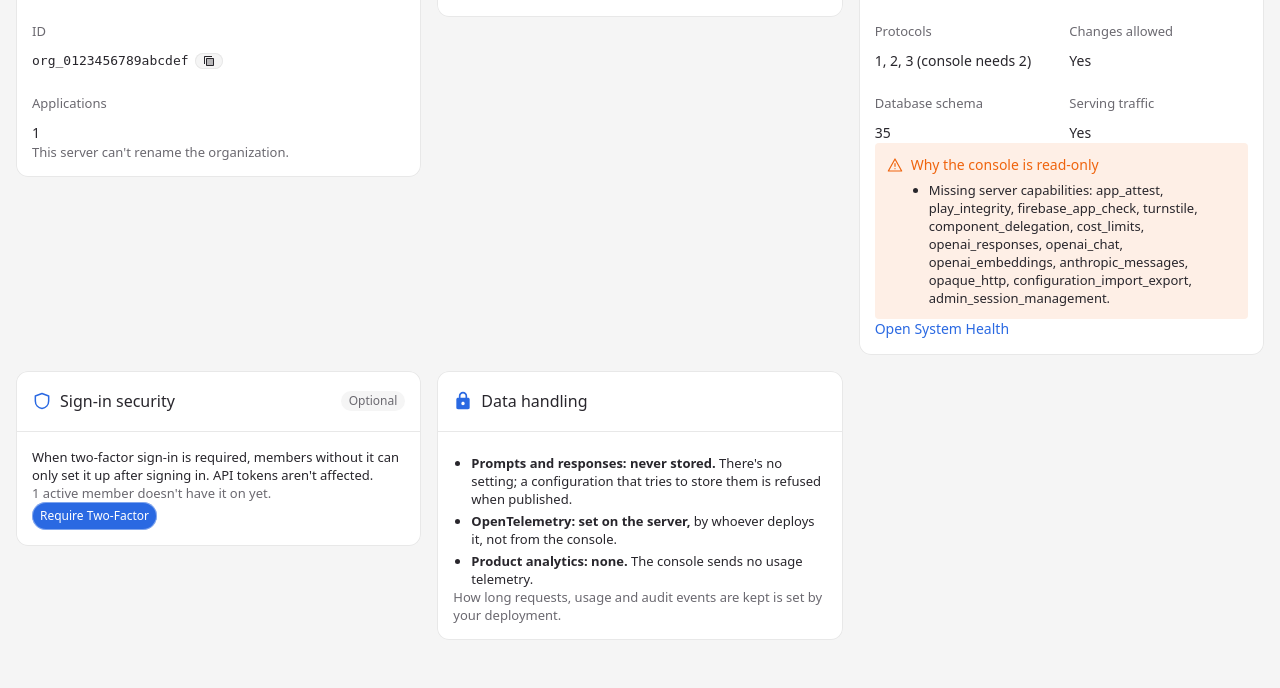
Scenario: Sign-in security › requires two-factor after showing who doesn't have it yet
The width and height of the screenshot is (1280, 688).
(page scrolled)
Check: the text "1 active member doesn't have it on yet." is shown, box 32,484 -> 271,502
Click the button "Require Two-Factor".
click(94, 516)  # box 32,502 -> 157,530
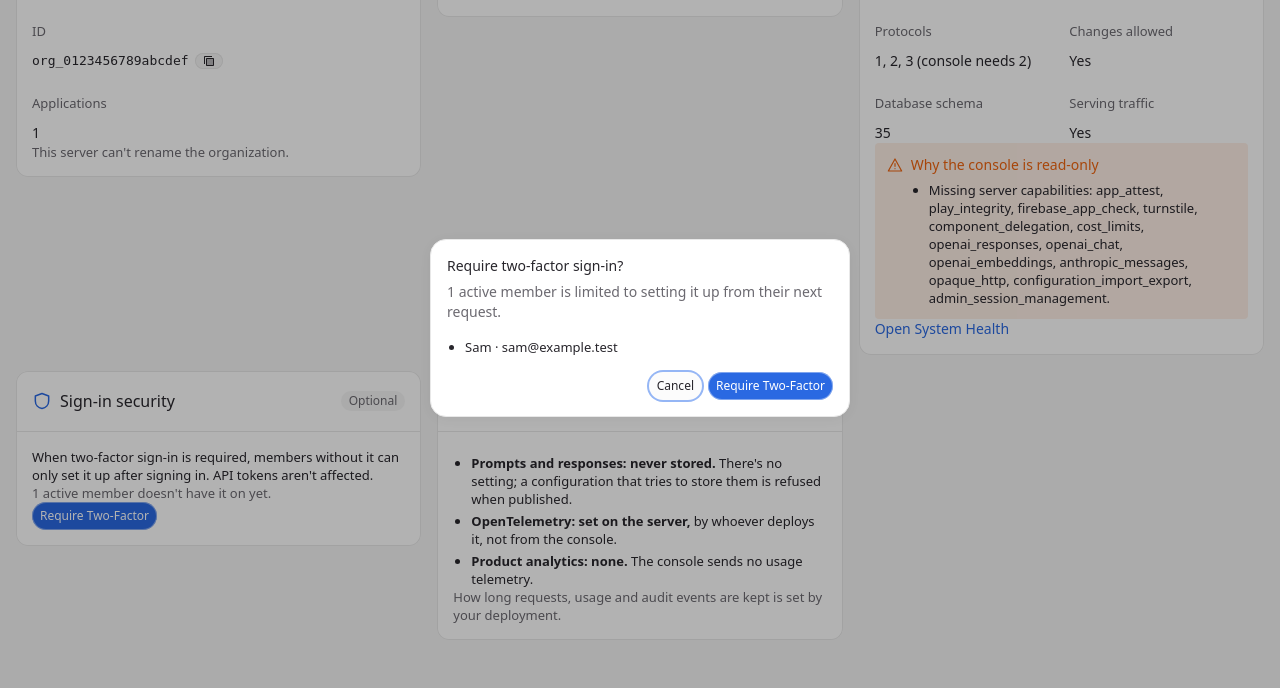
Check: the list item "Sam · sam@example.test" is shown, box 465,338 -> 618,356
Click the button "Require Two-Factor".
click(770, 386)  # box 708,372 -> 833,400
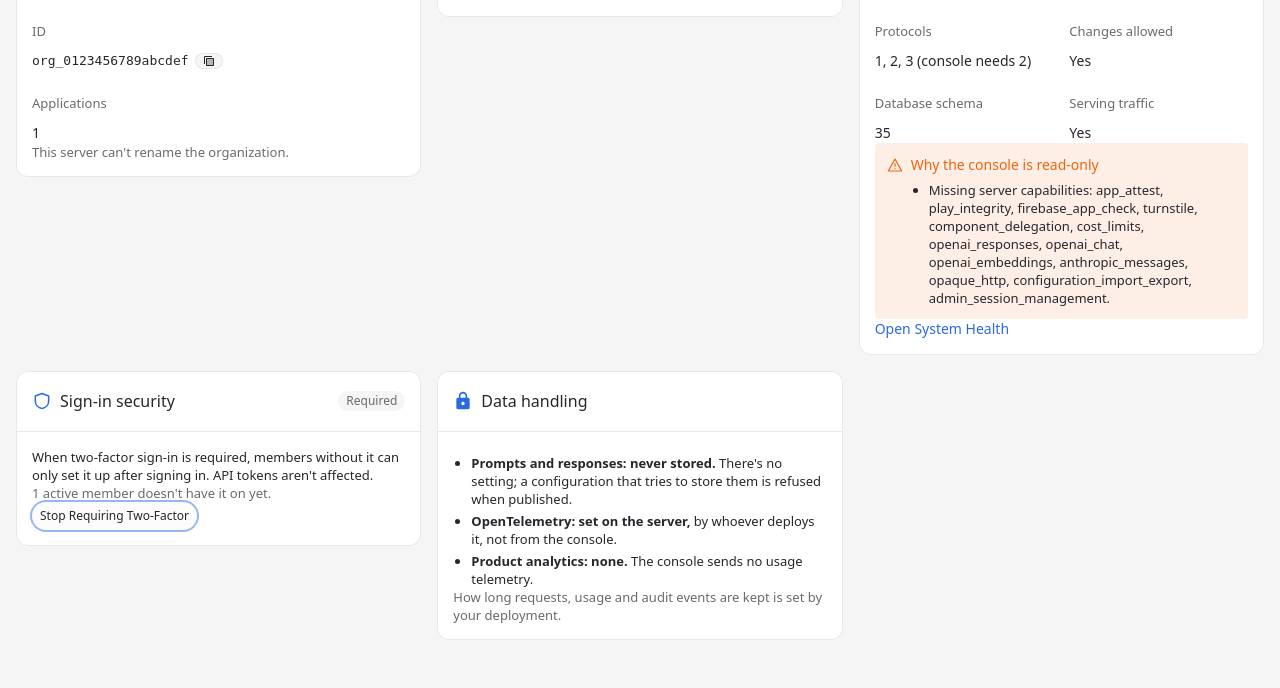
Check: the button "Stop Requiring Two-Factor" is shown, box 32,502 -> 197,530
